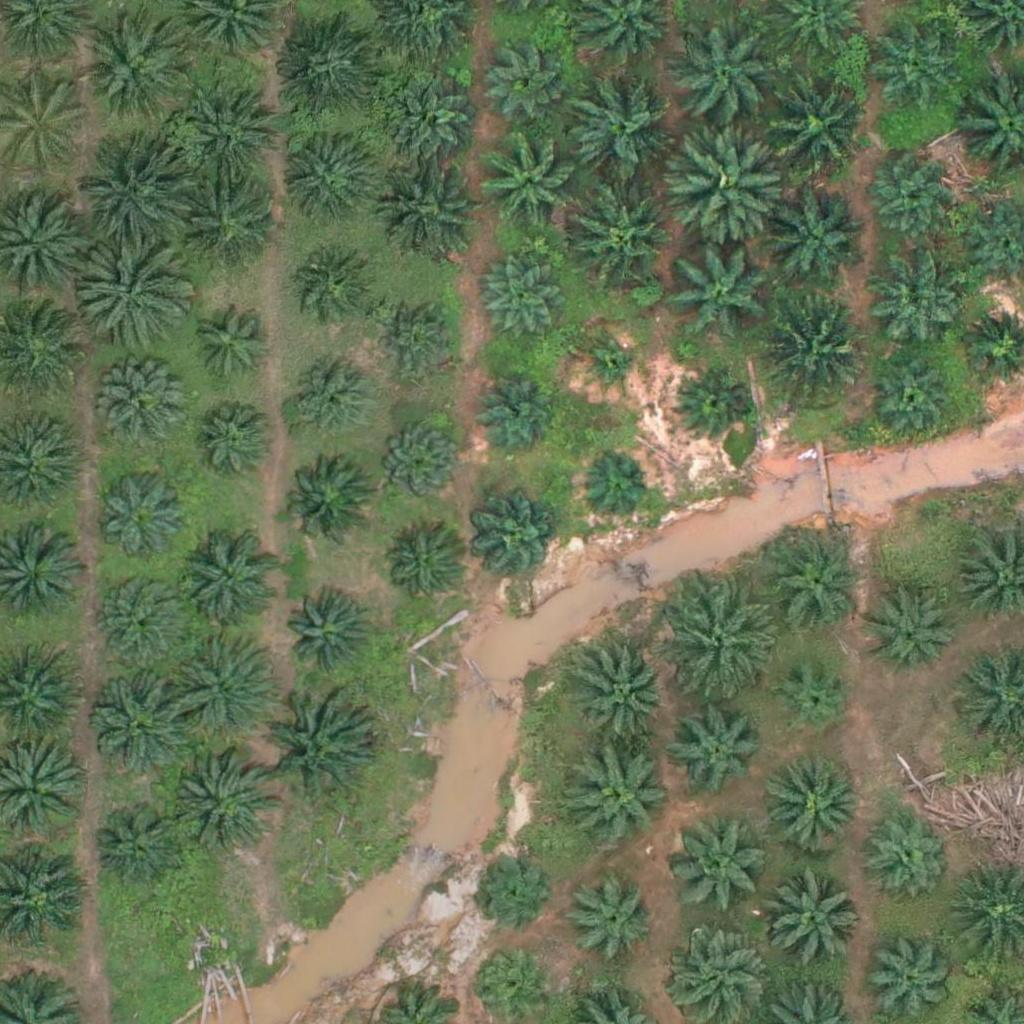Kelapa_Sawit: (662, 586, 775, 700), (676, 127, 789, 240), (260, 691, 373, 804), (78, 235, 190, 349), (78, 143, 190, 257), (675, 21, 787, 135), (277, 9, 389, 122), (569, 71, 681, 184), (568, 173, 680, 286), (671, 236, 783, 349), (764, 67, 876, 180), (762, 288, 874, 401), (163, 628, 275, 741), (183, 83, 283, 184), (181, 175, 281, 276), (279, 126, 379, 227), (480, 130, 580, 231), (764, 190, 864, 291), (767, 534, 867, 635), (862, 257, 962, 358), (559, 869, 659, 970), (169, 752, 269, 853), (94, 669, 194, 770), (94, 467, 194, 567), (84, 22, 184, 122), (180, 531, 280, 631), (381, 153, 481, 253), (763, 755, 863, 855), (763, 868, 863, 968), (671, 813, 771, 913), (575, 643, 675, 743), (566, 749, 666, 849), (185, 398, 273, 487), (99, 574, 187, 663), (291, 252, 379, 340), (486, 38, 574, 126), (478, 258, 566, 346), (475, 497, 563, 585), (868, 589, 956, 677), (380, 524, 467, 612), (375, 417, 462, 505), (375, 296, 462, 384), (182, 305, 269, 393), (285, 356, 372, 444), (281, 456, 368, 544), (101, 368, 188, 456), (387, 80, 474, 168), (473, 364, 560, 452), (873, 28, 960, 116), (869, 153, 956, 241), (871, 357, 958, 445), (865, 933, 952, 1021), (862, 810, 949, 898), (672, 710, 759, 798), (471, 847, 558, 935), (286, 593, 373, 681), (95, 800, 182, 888), (673, 365, 748, 441), (776, 659, 851, 735), (579, 448, 654, 523), (580, 337, 643, 400)
